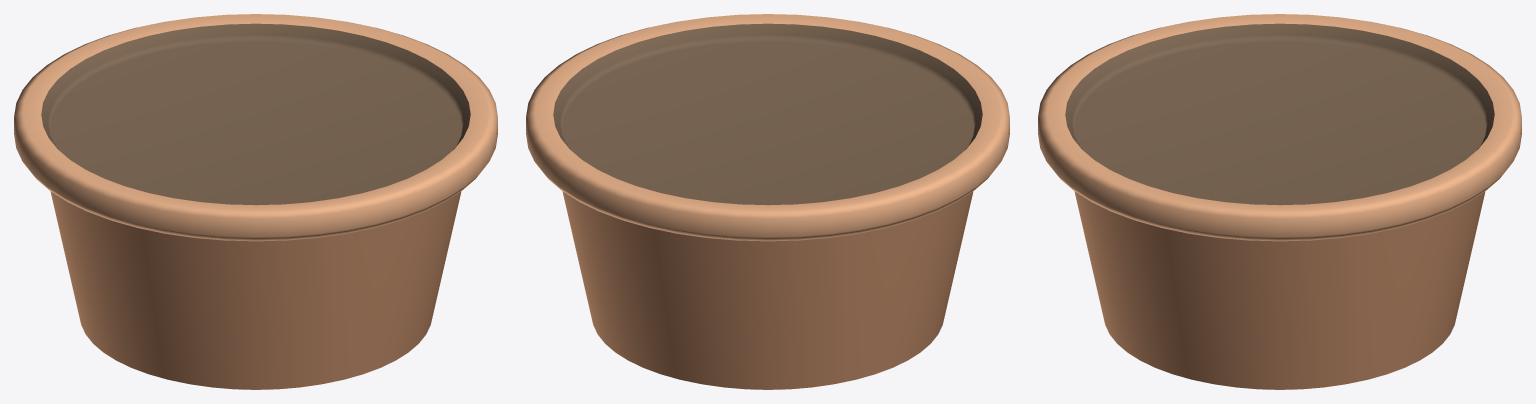
The model's file is blumentopf.glb.
The picture shows the model from 3 angles, left to right: view 1: azimuth 30°, elevation 25°; view 2: azimuth 150°, elevation 25°; view 3: azimuth 270°, elevation 25°; orthographic projection.
Parts seen in each view (by area): view 1: blumentopf_lod0; view 2: blumentopf_lod0; view 3: blumentopf_lod0.
Boxes of the visible parts, x1,y1,x2,y2 form: blumentopf_lod0: [14, 14, 497, 389]; blumentopf_lod0: [526, 14, 1009, 389]; blumentopf_lod0: [1038, 14, 1521, 389].
Size of what is drawn, in the model's own units: 2.14 by 1.01 by 2.14.
